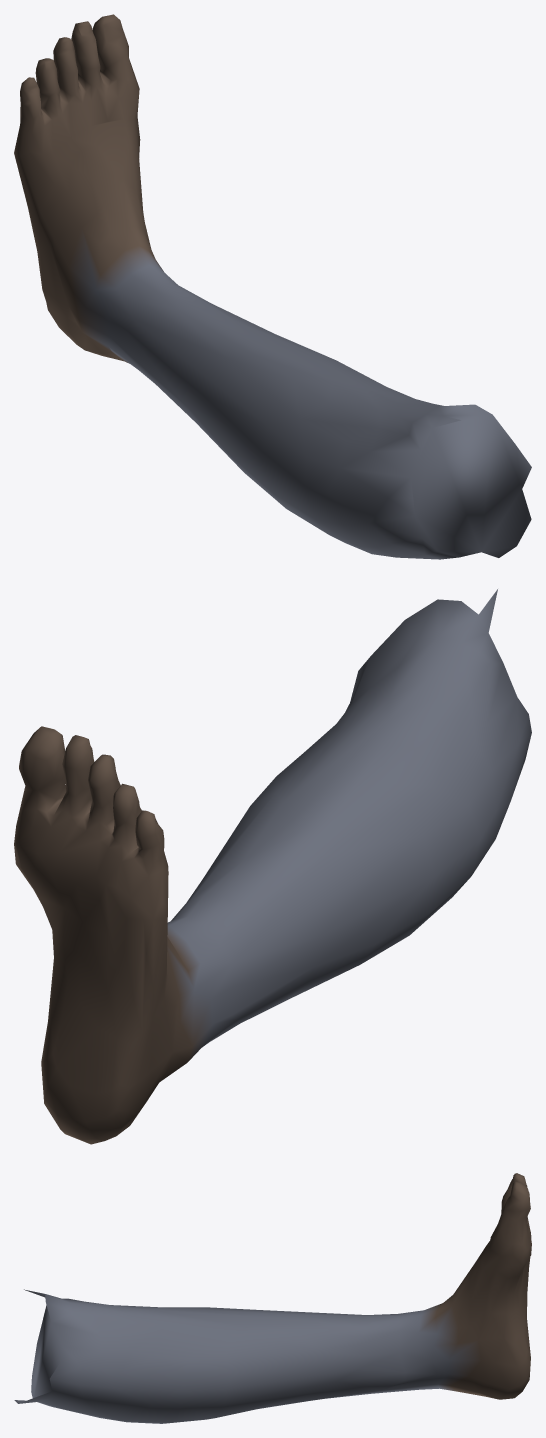
File: teibi_left_lower_leg_authored.glb
3 renders of one model, top to bottom at view 1: azimuth 30°, elevation 25°; view 2: azimuth 150°, elevation 25°; view 3: azimuth 270°, elevation 25°, orthographic. The views are drawn at different scales.
Parts seen in each view (by area): view 1: piece_leftleg_lowerleg_mesh; view 2: piece_leftleg_lowerleg_mesh; view 3: piece_leftleg_lowerleg_mesh.
Part boxes in pixels (x1,y1,x2,y2): piece_leftleg_lowerleg_mesh: (14,14,531,559); piece_leftleg_lowerleg_mesh: (14,589,531,1144); piece_leftleg_lowerleg_mesh: (14,1173,531,1423).
Size of the model in its own units: 0.1585 by 0.2753 by 0.5466.
